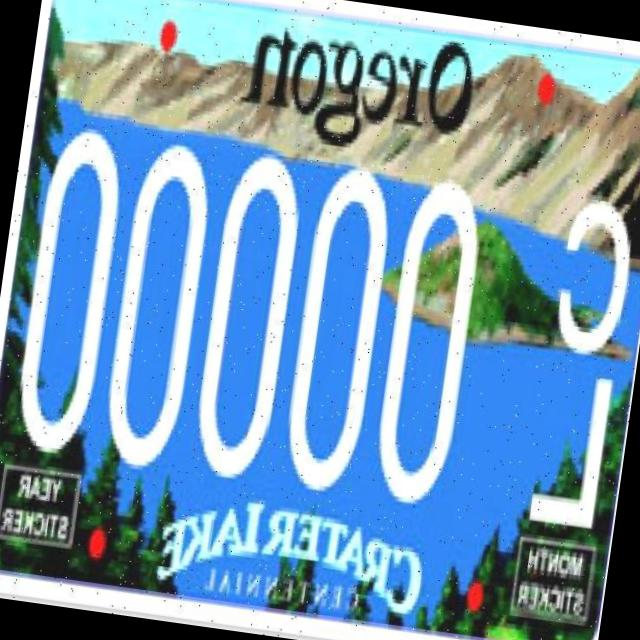LicensePlate: (10, 109, 508, 516)
